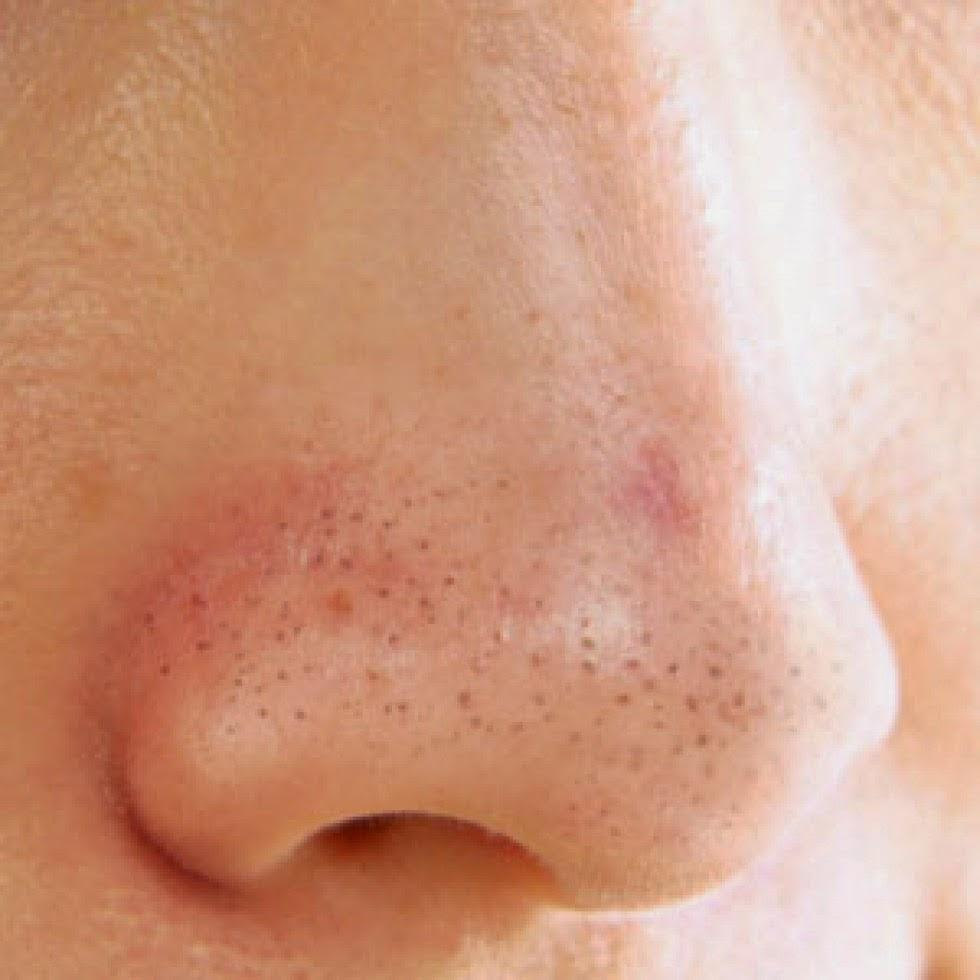Acne: (88, 454, 877, 903)
